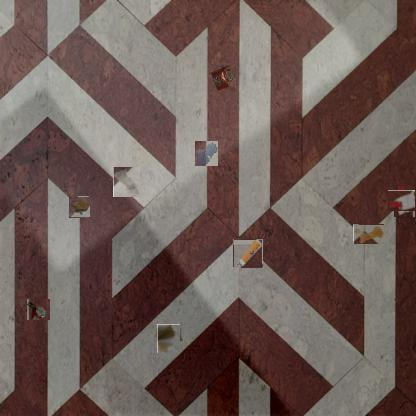dirty: (208, 63, 238, 92), (113, 168, 141, 197), (234, 239, 263, 267), (156, 325, 181, 352), (391, 187, 416, 214), (26, 298, 50, 320), (68, 197, 90, 218)
liquid: (353, 224, 384, 245), (194, 140, 218, 166)
